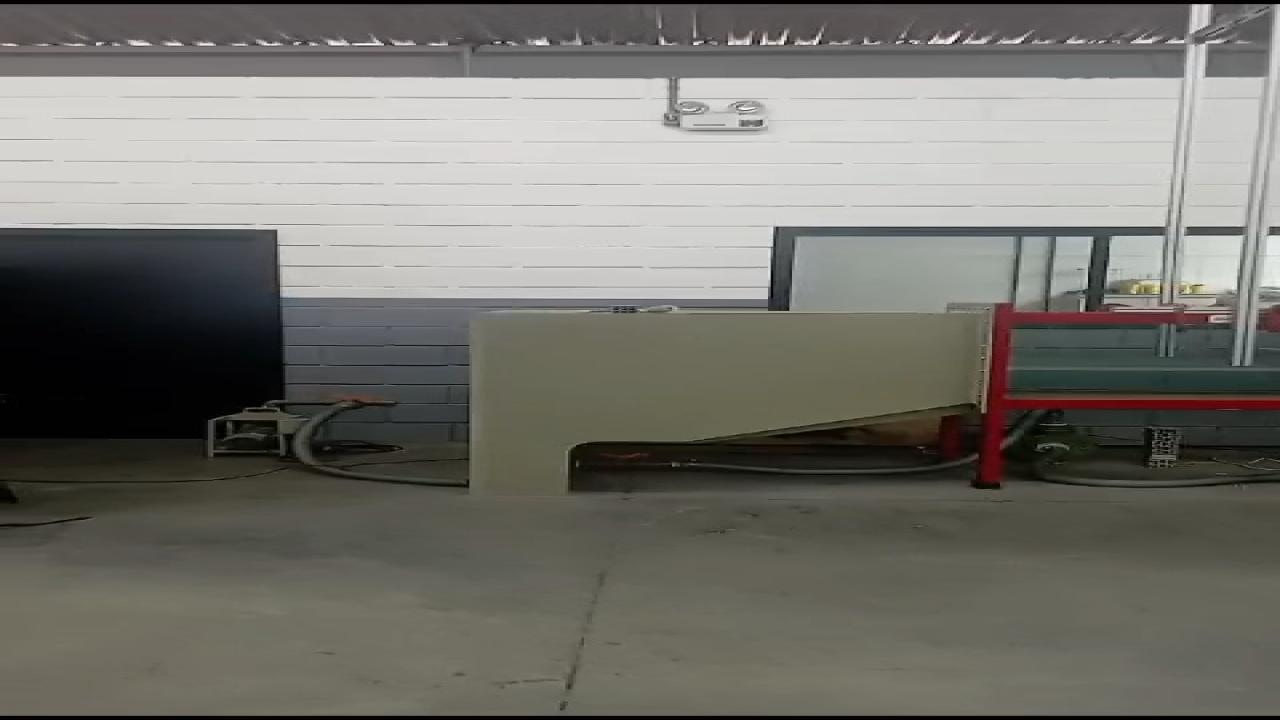Cube: (610, 306, 638, 313)
